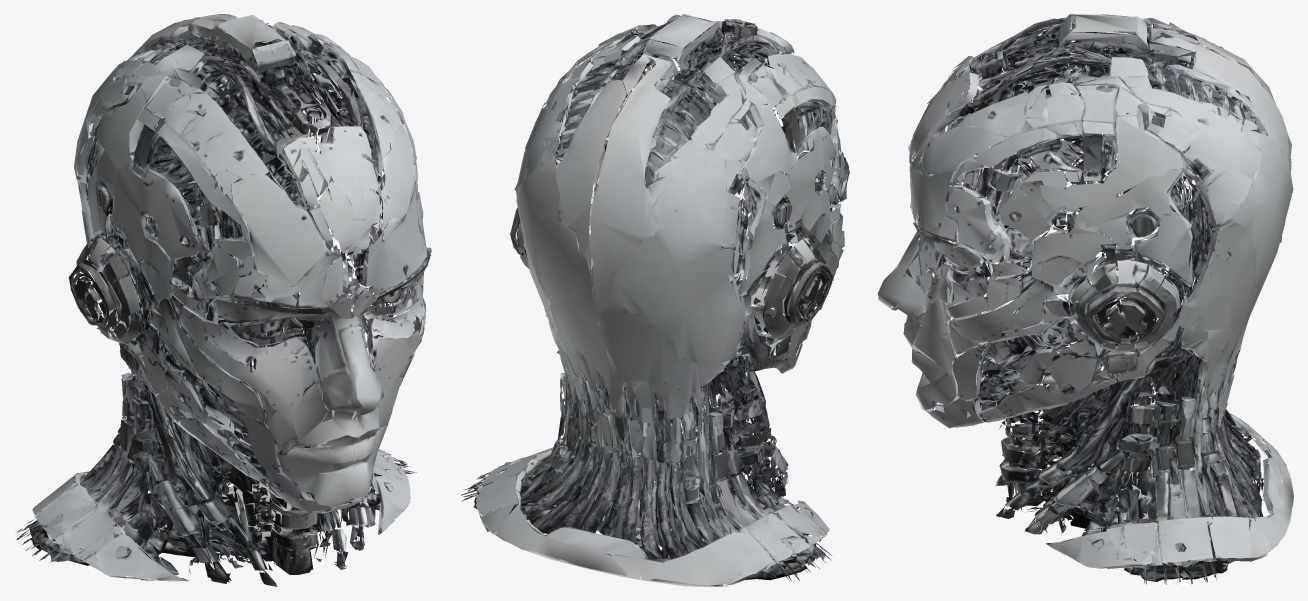
Rendered from head_final.glb.
3 views of the same model, side by side, from view 1: azimuth 30°, elevation 25°; view 2: azimuth 150°, elevation 25°; view 3: azimuth 270°, elevation 25° (orthographic). The views are drawn at different scales.
Parts seen in each view (by area): view 1: model; view 2: model; view 3: model.
Boxes of the visible parts, box(x1,y1,x2,y2) form: model: box(16, 14, 431, 586); model: box(461, 14, 849, 586); model: box(878, 14, 1293, 584).
Size of the model in its own units: 1.47 by 1.91 by 1.49.
1 material, 1 textured.
